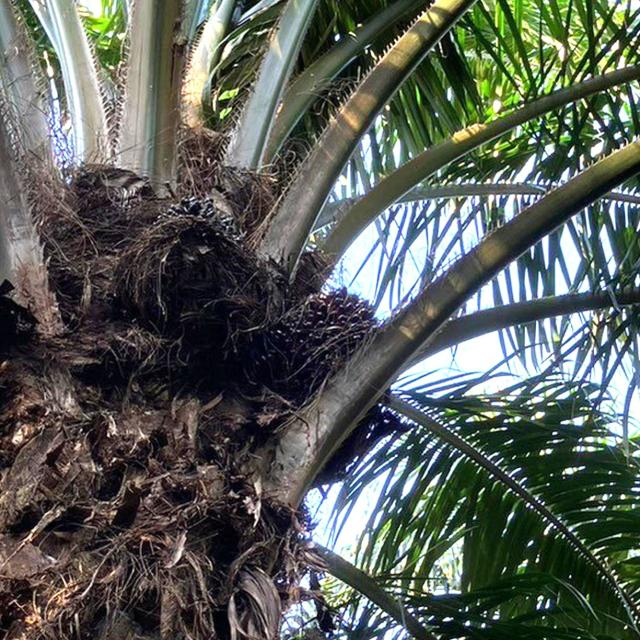ripe: (289, 283, 380, 377)
